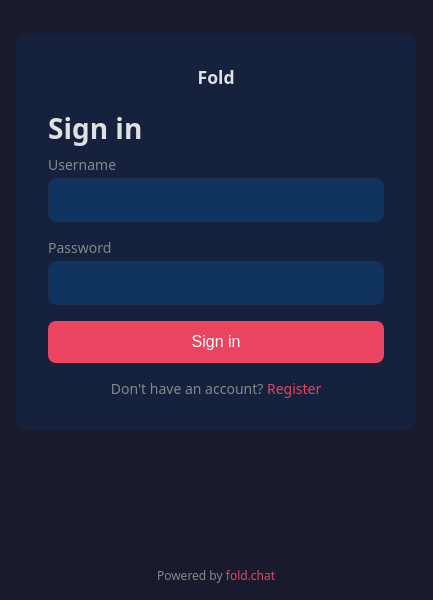
Scenario: Login error messages › shows "Server error" on 500 status
Type "testuser" into the field labelled "Username" at (216, 200), box [48,178,384,222]
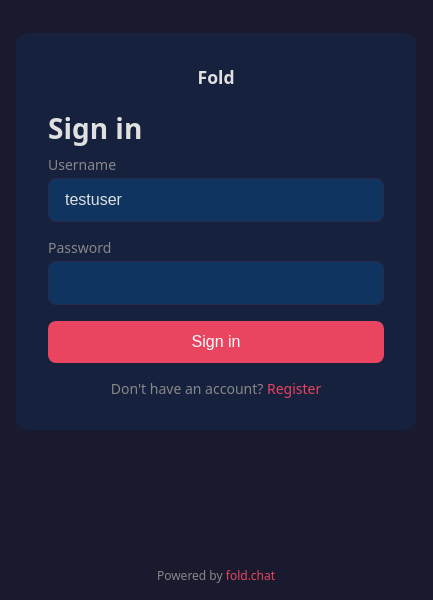
Type "testpass" into the password field labelled "Password" at (216, 283), box [48,261,384,305]
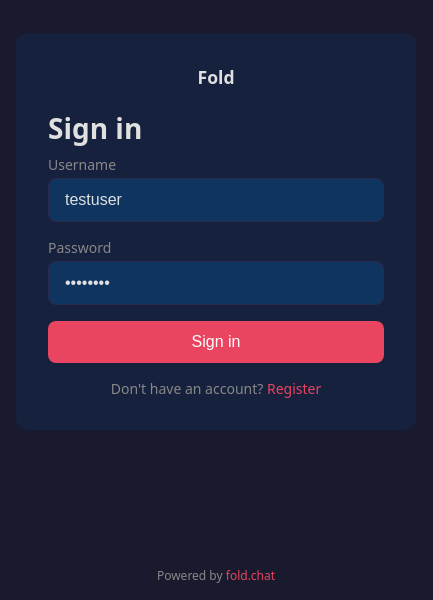
Submit the form labelled "Username", box [48,155,384,363]
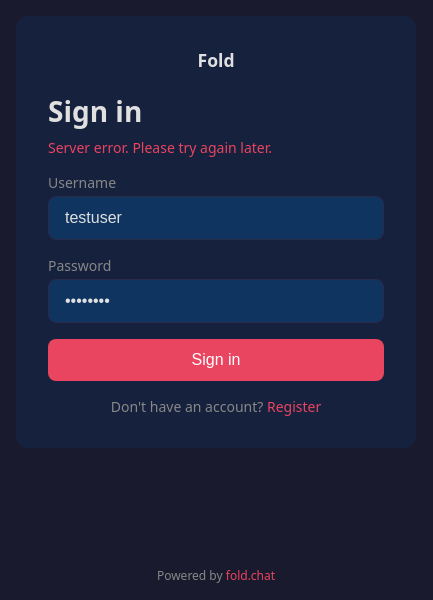
Result: the text "Server error. Please try again later." is shown at [48,138,272,156]
